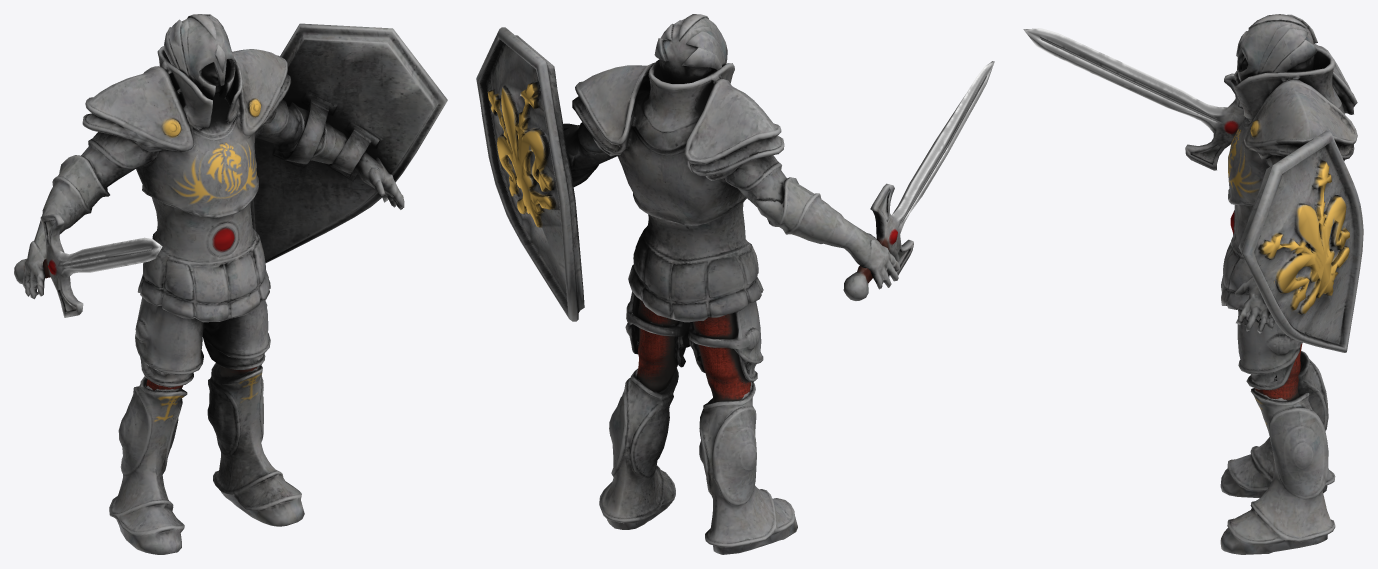
File: knight.gltf
3 views of the same model, side by side, from view 1: azimuth 30°, elevation 25°; view 2: azimuth 150°, elevation 25°; view 3: azimuth 270°, elevation 25° (orthographic).
Visible parts, largest first — view 1: Group61487, Group61487.001; view 2: Group61487, Group61487.001; view 3: Group61487, Group61487.001.
Part boxes in pixels (x1=…): Group61487: x1=22, y1=14, x2=447, y2=554; Group61487.001: x1=14, y1=213, x2=162, y2=317; Group61487: x1=476, y1=14, x2=899, y2=554; Group61487.001: x1=843, y1=61, x2=994, y2=300; Group61487: x1=1220, y1=14, x2=1363, y2=554; Group61487.001: x1=1023, y1=28, x2=1244, y2=170.
Bounding box in the file's own units: 4.82 × 5.59 × 3.42.
Materials: 1 (1 with a texture image).
